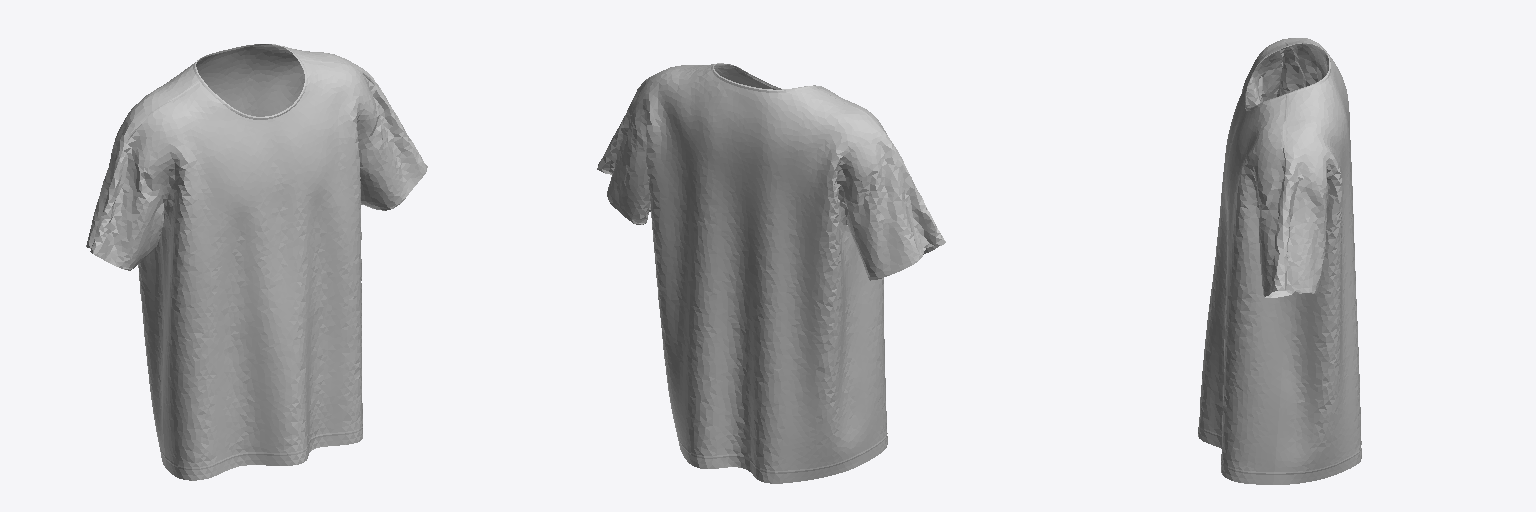
Rendered from garment.obj.
3 renders of one model, left to right at view 1: azimuth 30°, elevation 25°; view 2: azimuth 150°, elevation 25°; view 3: azimuth 270°, elevation 25°, orthographic.
Bounding box in the file's own units: 0.6359 × 0.6774 × 0.2643.